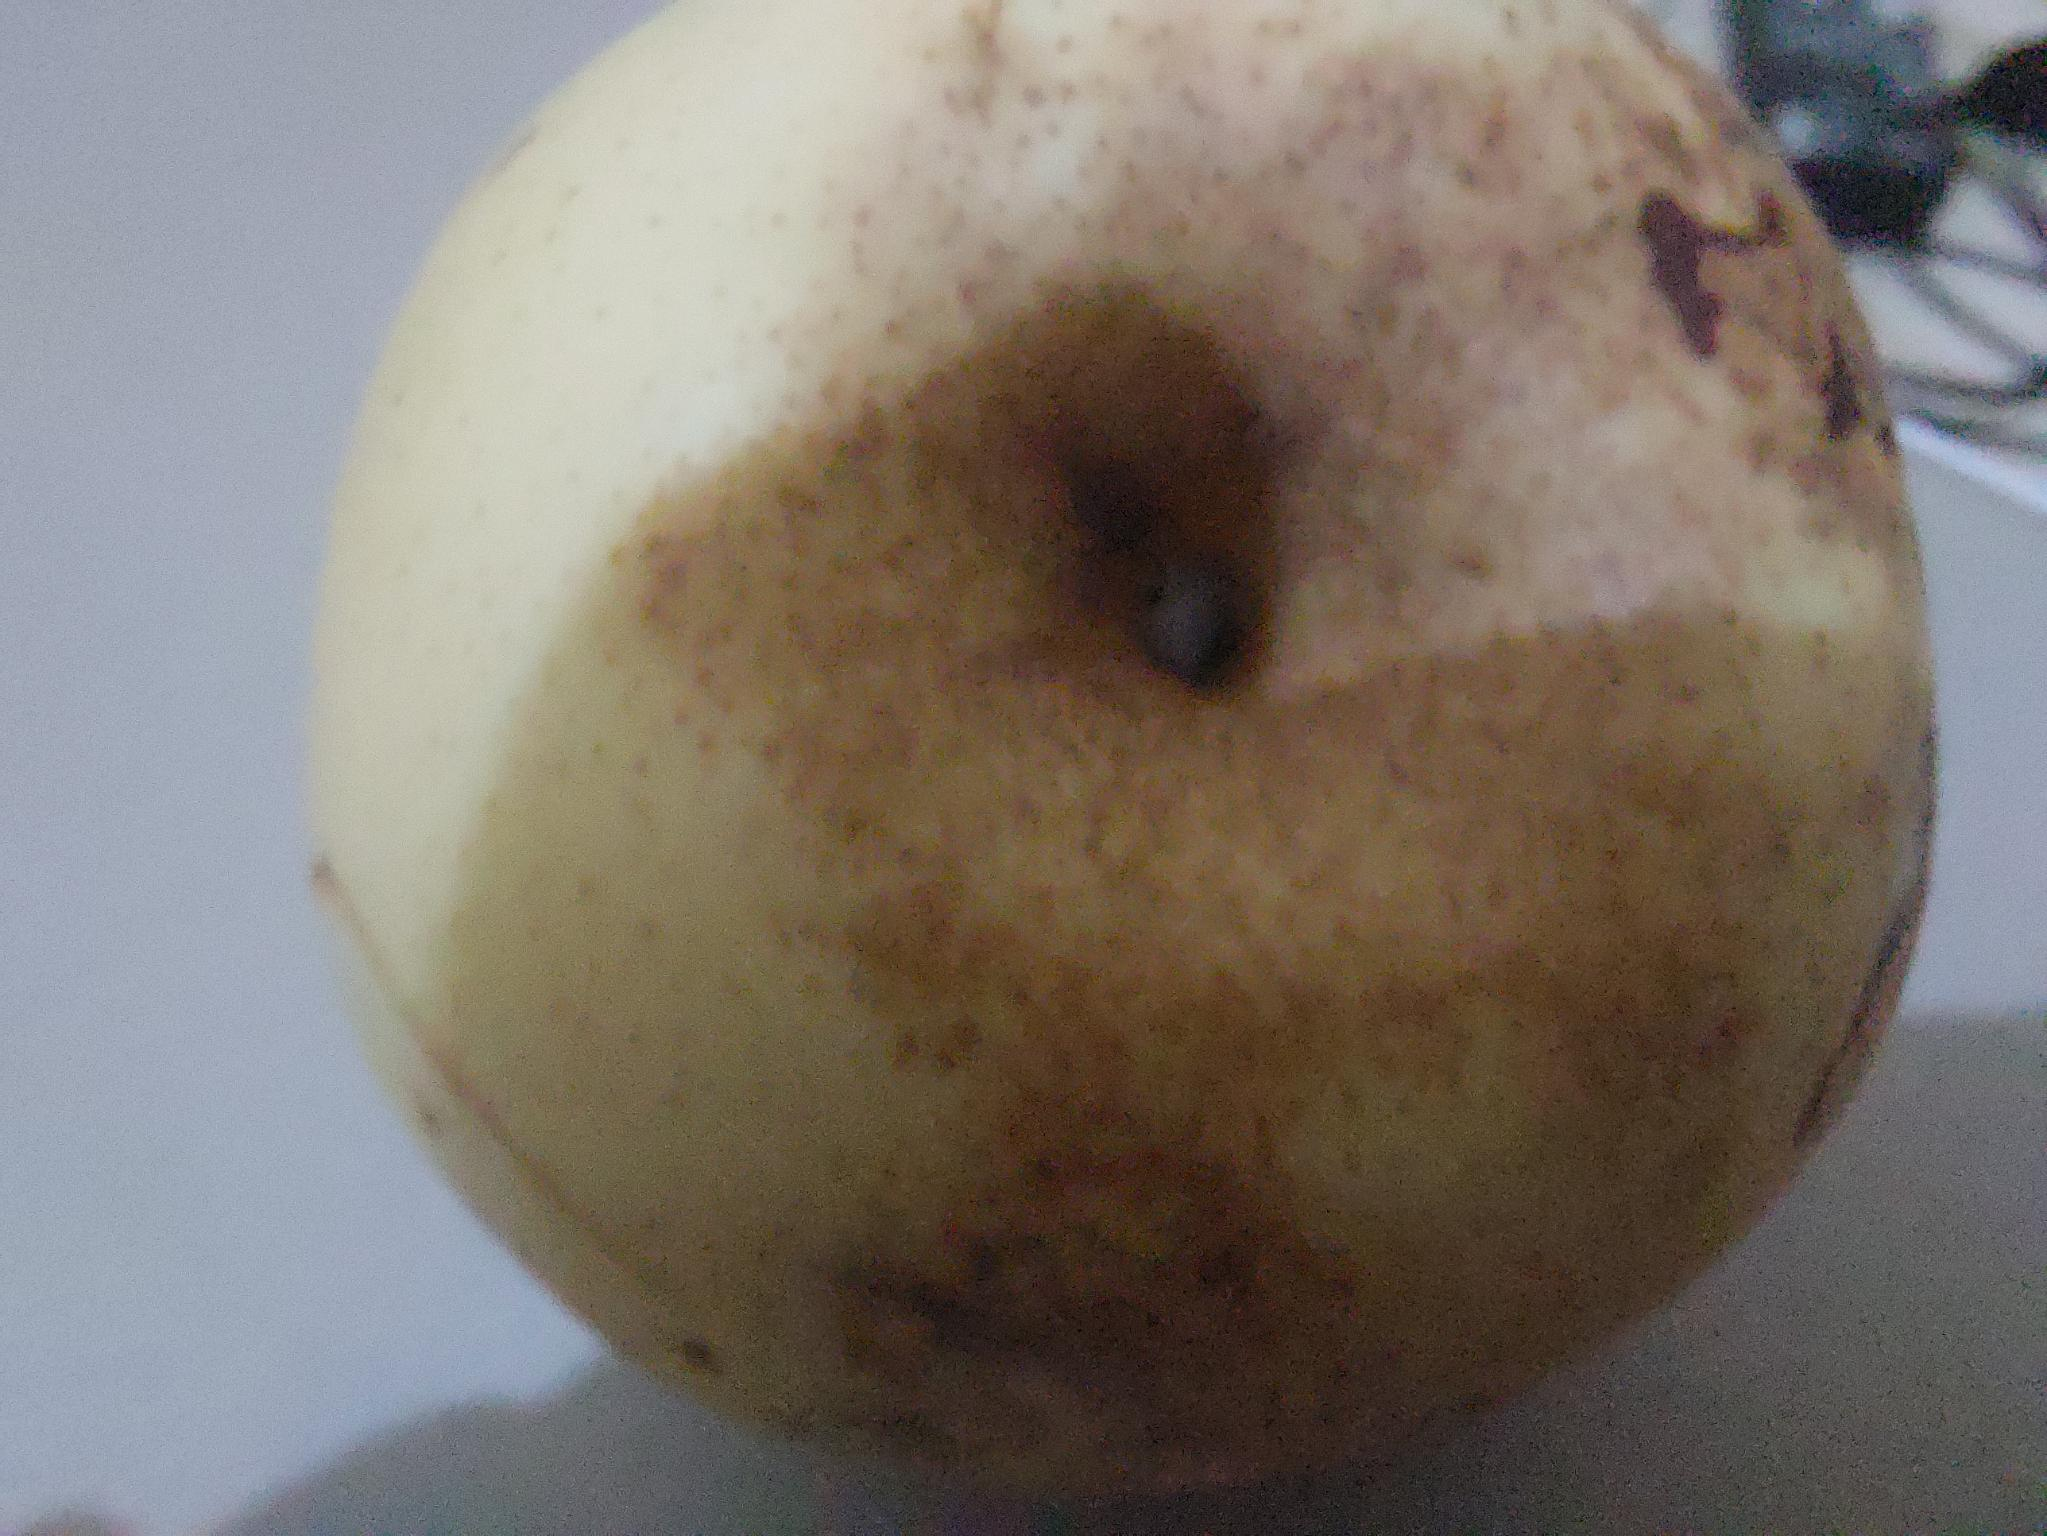Bad Pear: (260, 0, 1962, 1536)
